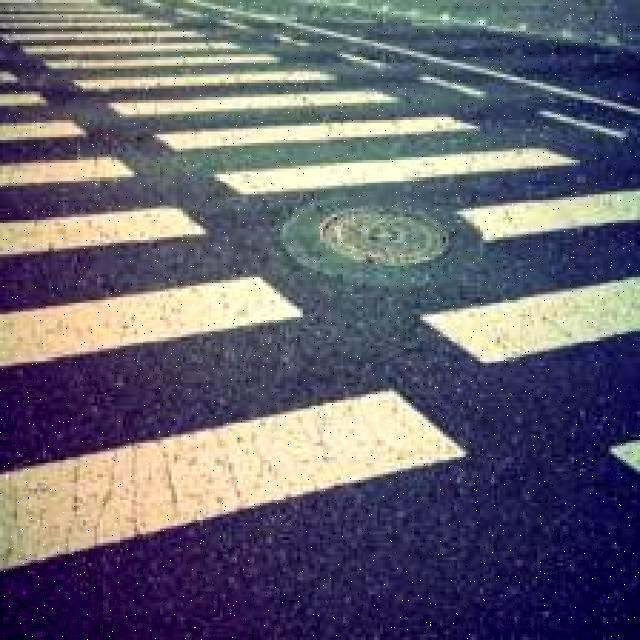crosswalk: (1, 0, 637, 624)
